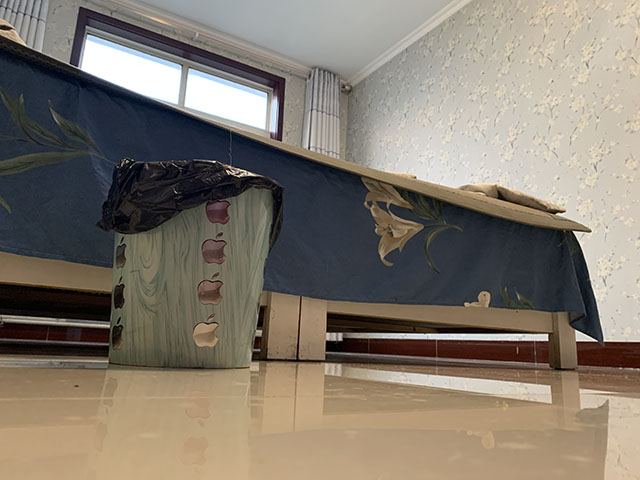bed: (1, 19, 607, 374)
trashcan: (95, 156, 286, 370)
